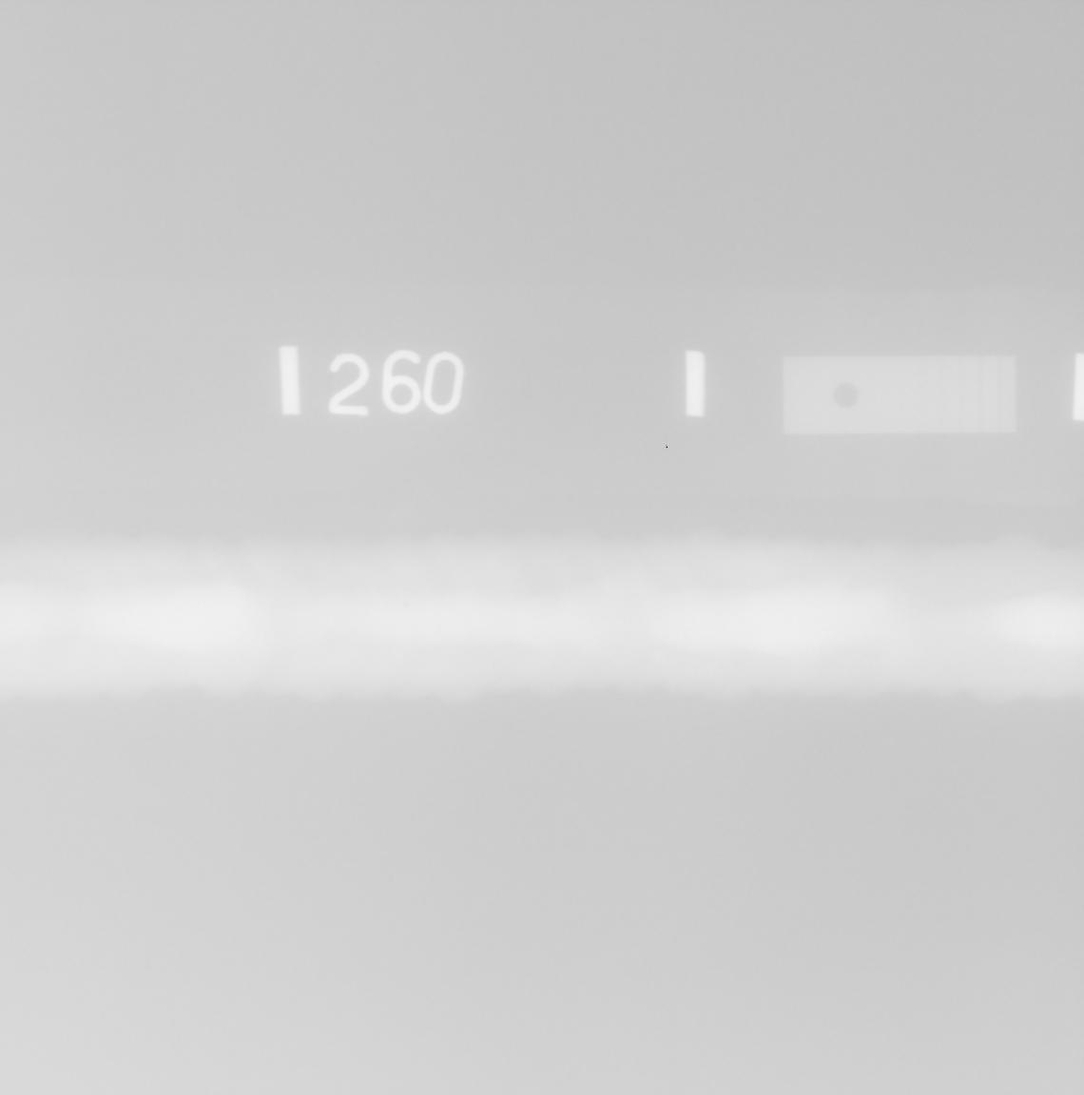Pore/Porosity: (402, 603, 410, 609)
Reference Standard 1: (783, 356, 1016, 435)
